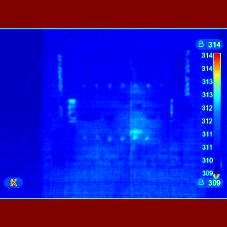Medium: (193, 162, 224, 186)
